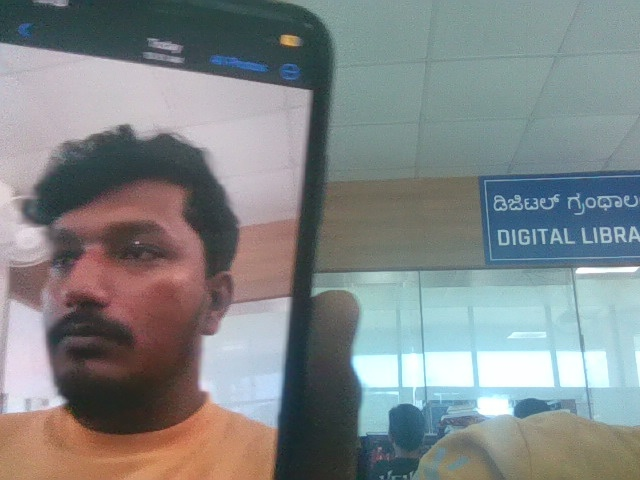fake: (15, 105, 234, 416)
